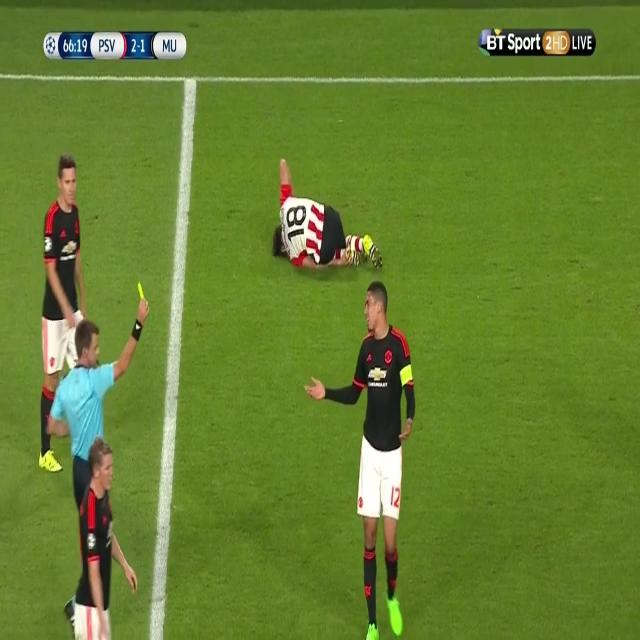Player: (303, 276, 419, 640), (35, 154, 85, 474), (270, 150, 384, 276), (72, 433, 140, 638)
Referee: (45, 292, 150, 496)
